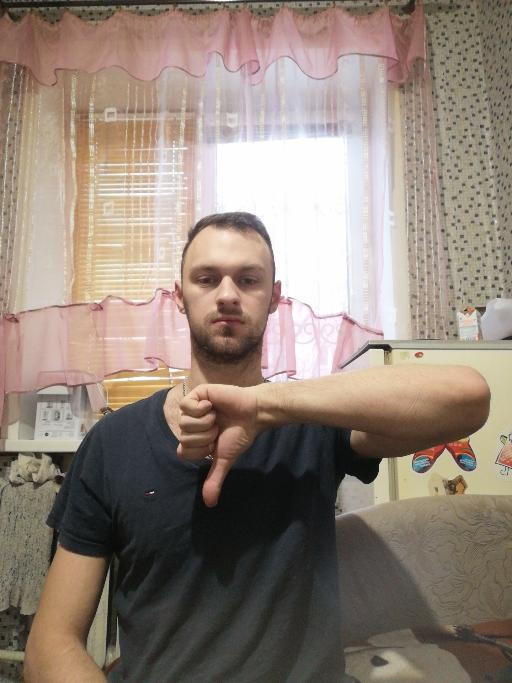dislike: (174, 381, 257, 509)
